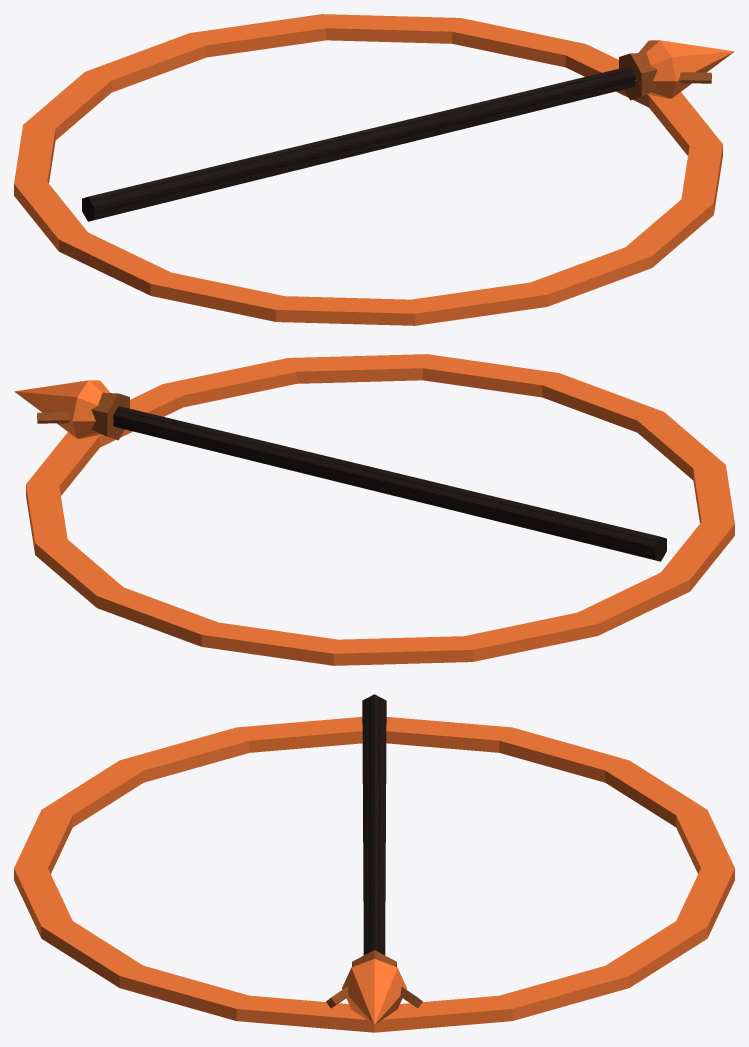
File: loot_staff_g4.glb
The picture shows the model from 3 angles, top to bottom: view 1: azimuth 30°, elevation 25°; view 2: azimuth 150°, elevation 25°; view 3: azimuth 270°, elevation 25°; orthographic projection.
Visible parts, largest first — view 1: loot_staff_g4; view 2: loot_staff_g4; view 3: loot_staff_g4.
Part boxes in pixels (bbox=[...]): loot_staff_g4: bbox=[14, 14, 734, 325]; loot_staff_g4: bbox=[14, 354, 734, 665]; loot_staff_g4: bbox=[14, 694, 734, 1032].
Bounding box in the file's own units: 1.81 × 0.165 × 1.66.
3 materials, 3 textured.
